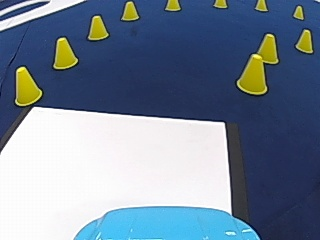cone: (236, 52, 268, 94), (13, 65, 42, 105), (52, 36, 78, 69), (255, 32, 279, 63), (86, 14, 108, 40), (295, 28, 313, 52), (120, 0, 139, 21), (292, 4, 304, 19), (165, 0, 180, 11), (254, 0, 268, 11), (214, 0, 226, 8)
